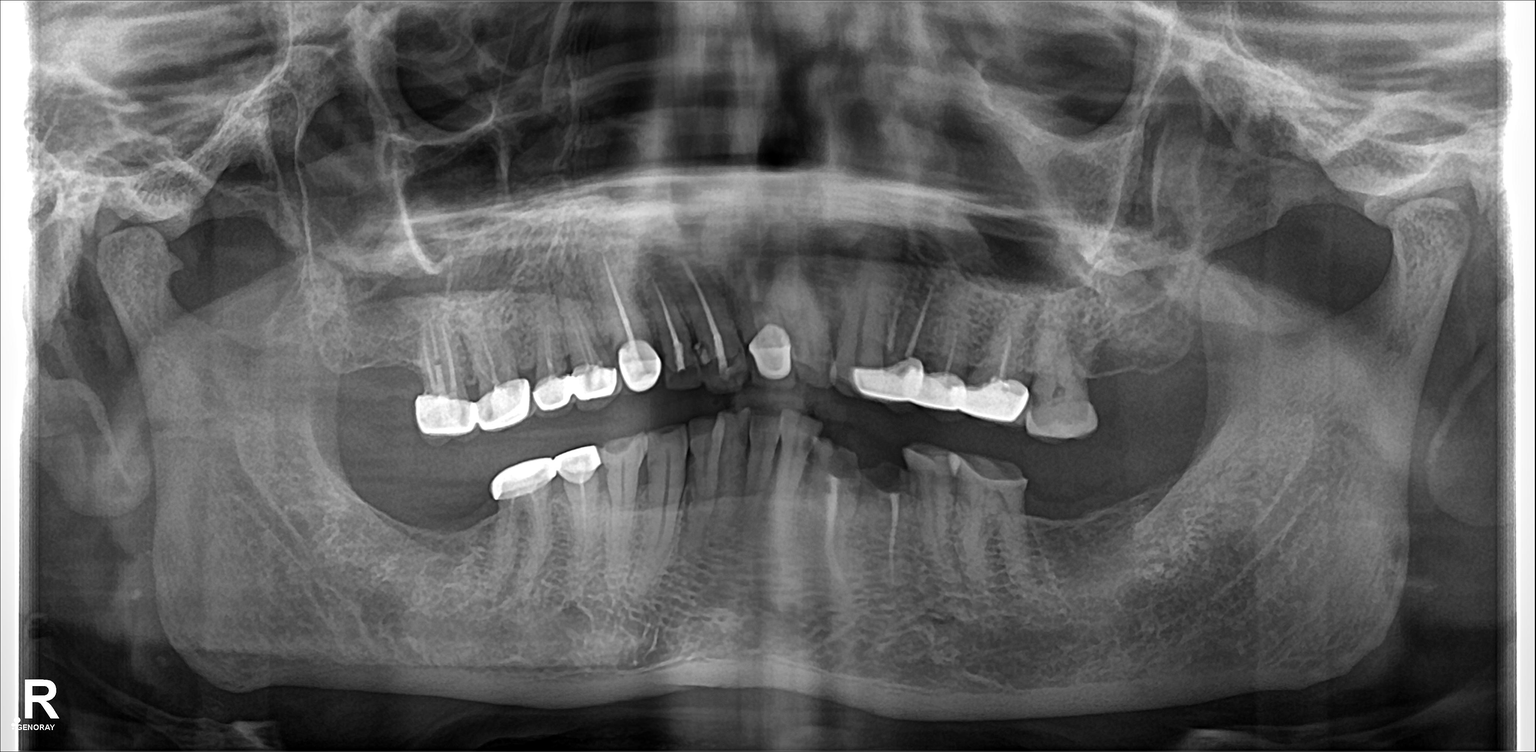Endodontically Treated Tooth: (408, 315, 477, 432), (818, 434, 864, 605), (862, 443, 910, 593), (596, 277, 653, 389), (683, 272, 742, 380), (557, 449, 603, 587), (473, 322, 533, 420), (501, 460, 545, 593), (920, 296, 970, 405), (754, 270, 802, 381), (875, 292, 921, 401), (650, 270, 696, 375), (983, 305, 1025, 420), (521, 303, 565, 408), (562, 305, 609, 393)
Missing Tooth: (1140, 329, 1196, 448), (1030, 465, 1088, 570), (451, 462, 499, 581), (1140, 460, 1190, 562), (395, 458, 448, 554), (1088, 337, 1137, 439), (331, 322, 374, 435), (343, 454, 396, 538), (1088, 465, 1131, 563), (372, 328, 404, 429)
